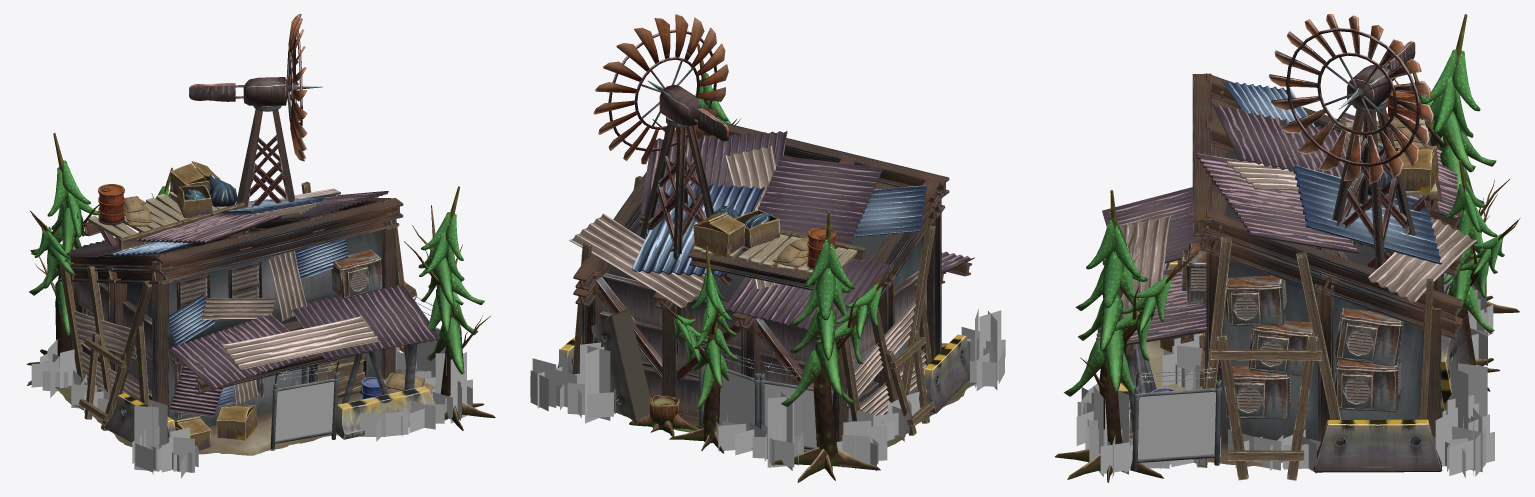
Rendered from house.fbx.
3 views of the same model, side by side, from view 1: azimuth 30°, elevation 25°; view 2: azimuth 150°, elevation 25°; view 3: azimuth 270°, elevation 25° (orthographic). The views are drawn at different scales.
Parts seen in each view (by area): view 1: house; view 2: house; view 3: house.
Part boxes in pixels (x1,y1,x2,y2): house: (26, 14, 495, 478); house: (530, 14, 1005, 482); house: (1055, 14, 1520, 482).
Bounding box in the file's own units: 26.15 × 25.39 × 25.31.
